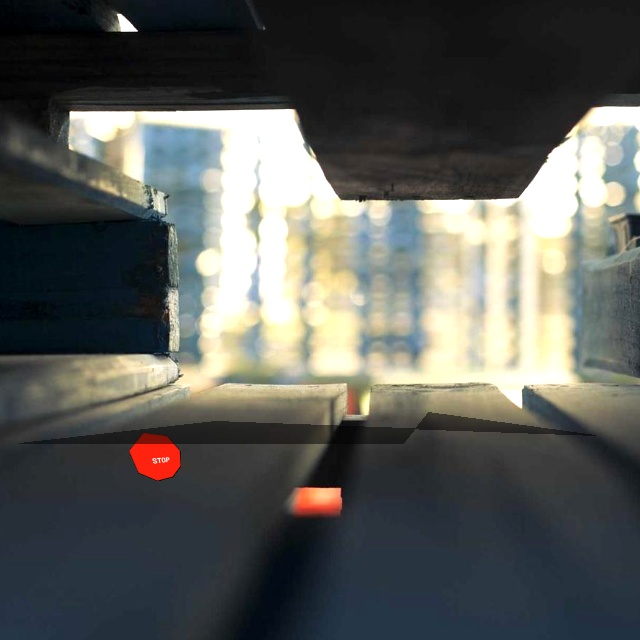STOP: (128, 432, 181, 481)
